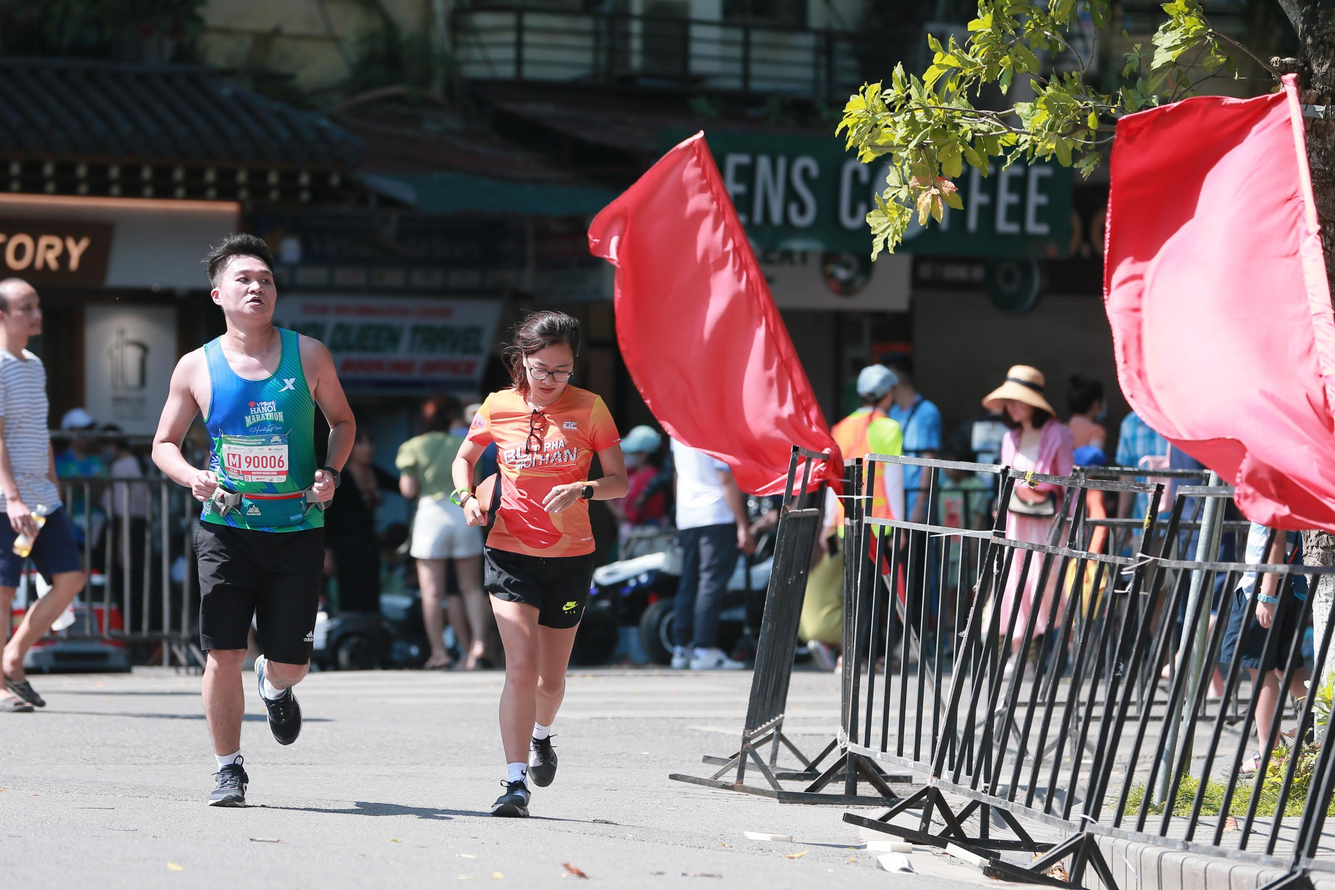bib: (221, 433, 287, 483)
